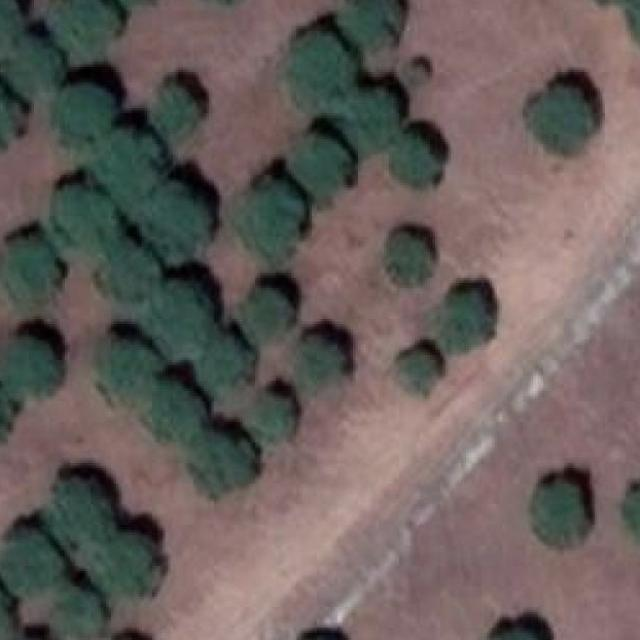Tree: (230, 180, 306, 258), (90, 128, 168, 200), (140, 178, 210, 254), (284, 33, 356, 105), (525, 80, 598, 150), (0, 332, 65, 402), (51, 474, 111, 546), (529, 476, 589, 546), (50, 183, 114, 248), (148, 286, 211, 350), (0, 234, 57, 304), (4, 530, 65, 593), (194, 429, 255, 490), (99, 334, 157, 398), (55, 77, 111, 143), (291, 134, 351, 194), (99, 532, 157, 592), (438, 285, 494, 346), (149, 379, 205, 439), (102, 245, 154, 309), (293, 331, 345, 390), (341, 0, 405, 47), (48, 0, 114, 45), (146, 87, 200, 141), (4, 40, 57, 95), (345, 88, 396, 145), (240, 291, 293, 345), (191, 337, 245, 390), (385, 137, 437, 188), (246, 391, 298, 442), (61, 584, 109, 638), (382, 232, 430, 285), (392, 348, 440, 392), (0, 82, 29, 154), (0, 0, 21, 60), (491, 617, 545, 640), (623, 481, 640, 551), (0, 584, 14, 639), (0, 378, 12, 442), (404, 59, 430, 86), (105, 0, 159, 8), (196, 0, 252, 5), (294, 635, 346, 640)
